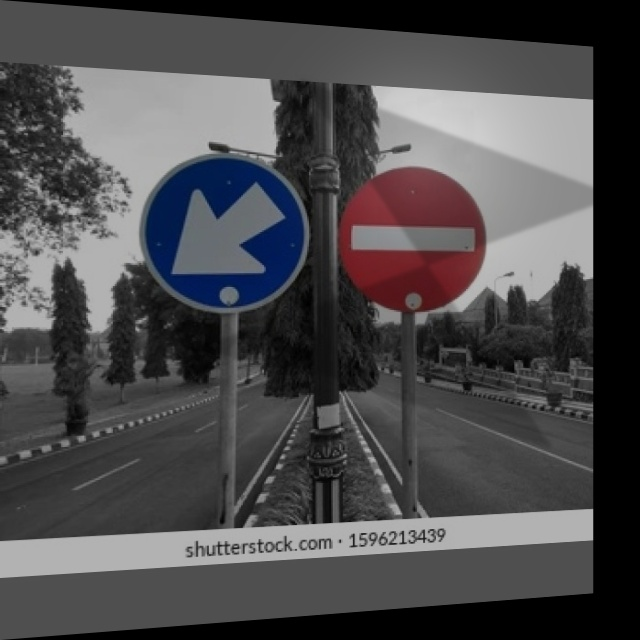Compulsory_Keep_Left: (143, 154, 304, 306)
